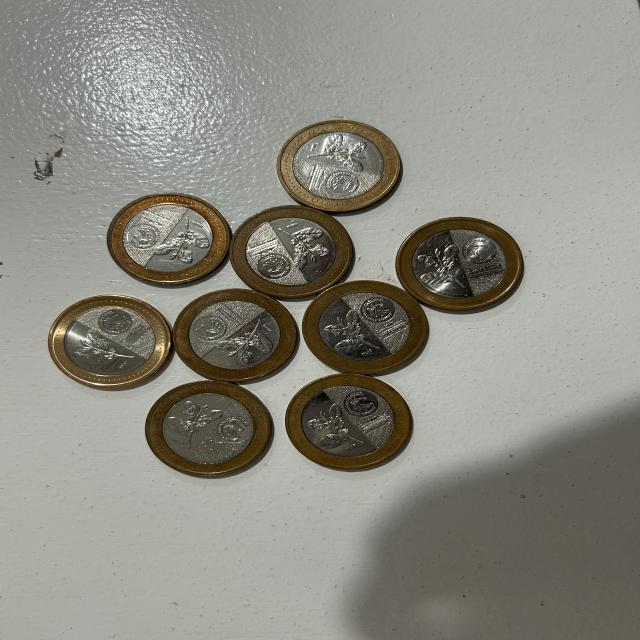20_New_Back: (305, 403, 363, 452), (214, 319, 272, 365), (277, 225, 332, 270), (327, 311, 382, 354), (315, 133, 374, 172), (156, 221, 208, 264), (168, 402, 221, 444), (77, 331, 133, 369), (419, 245, 468, 286)
